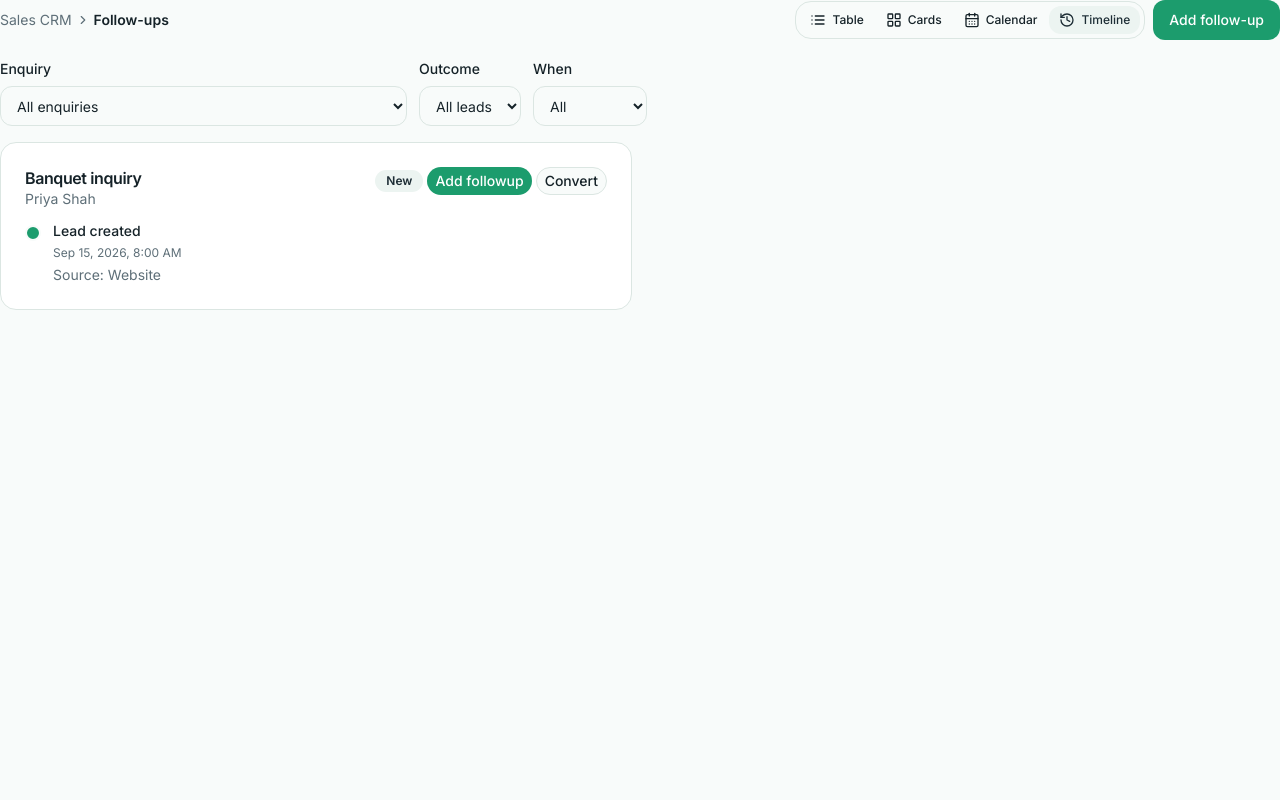
Test case: CRM modules › opens add follow-up for the enquiry from the recent timeline title
This screenshot has width=1280, height=800.
Click the button "Add followup" at [480, 181], box [427,167,532,195]
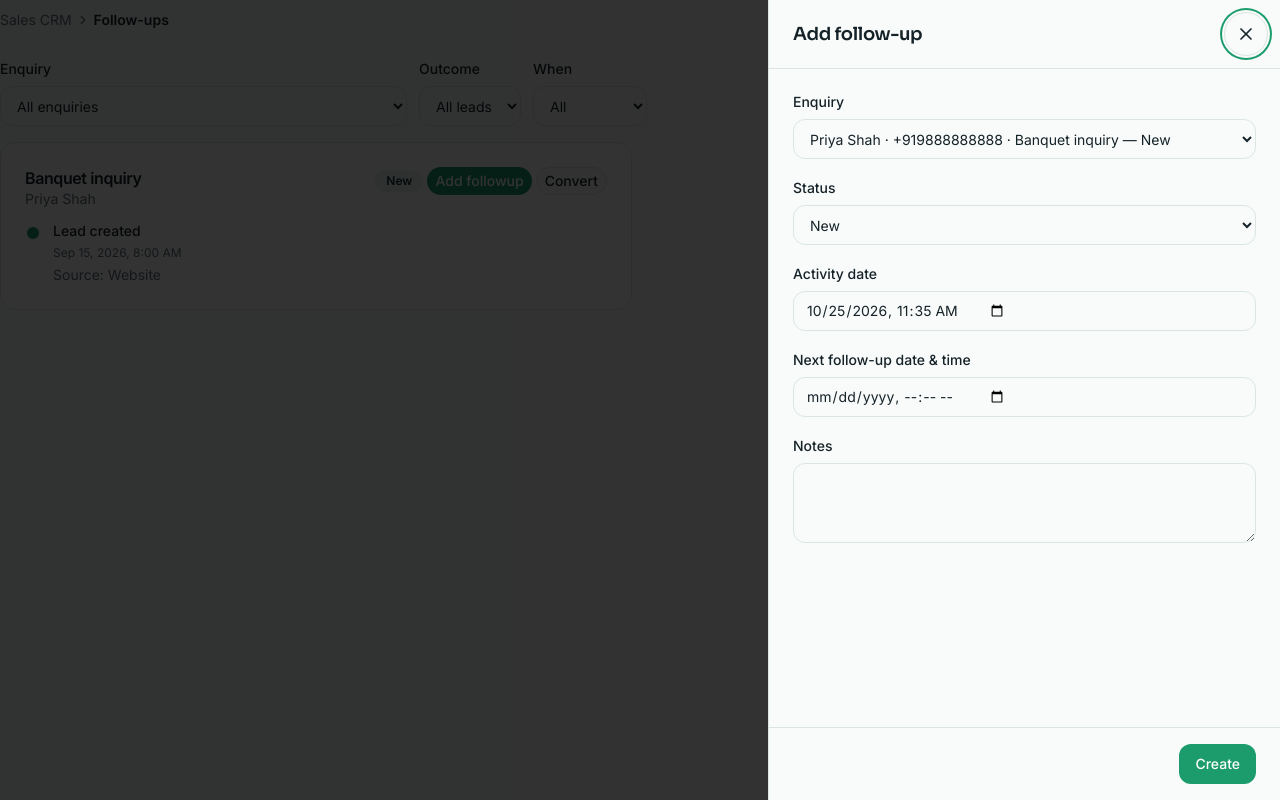
Expected: the heading "Add follow-up" is shown, [793,23,922,45]
Expected: the dropdown with id "followup-enquiry" shows "Priya Shah · +919888888888 · Banquet inquiry — New", [793,119,1256,159]
